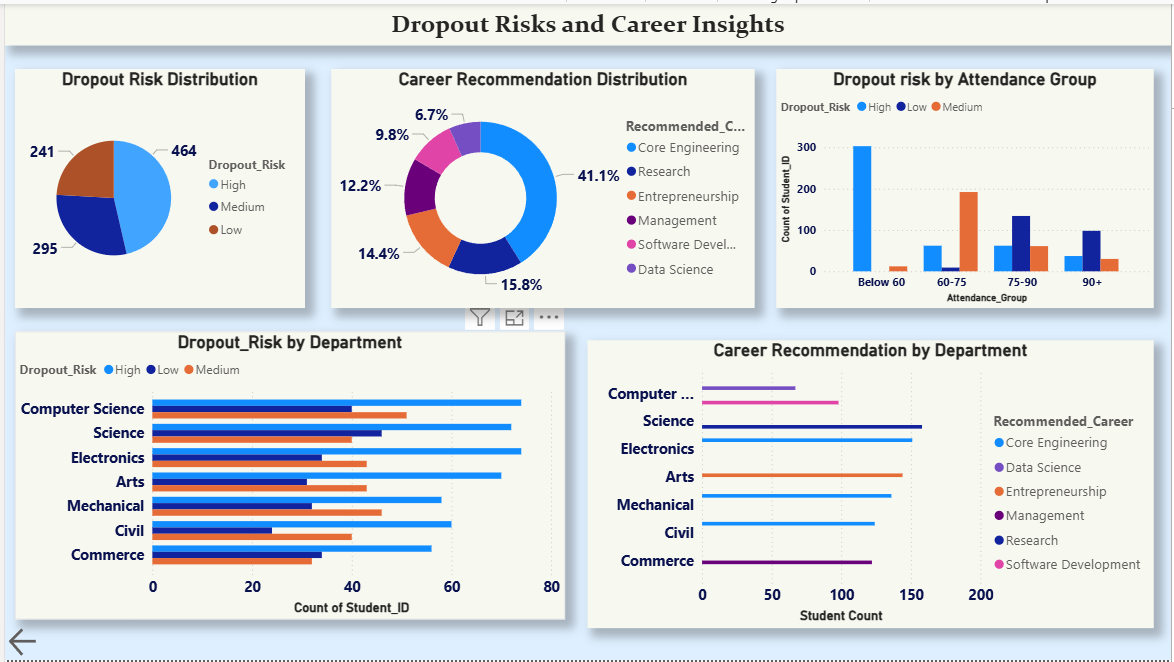

The dashboard page shown, as its layout file describes it:
{"tool":"powerbi","page":{"name":"Page 3","canvas":[1280,720],"ordinal":2},"visuals":[{"type":"textbox","box":[0,0,1280.3,45.3],"z":0},{"type":"pieChart","title":"Dropout Risk Distribution","fields":{"Category":["Sheet1.Dropout_Risk"],"Y":["CountNonNull(Sheet1.Student_ID)"]},"box":[11,71.4,318.4,262.1],"z":1000},{"type":"clusteredBarChart","title":" Dropout_Risk by Department","fields":{"Series":["Sheet1.Dropout_Risk"],"Category":["Sheet1.Department"],"Y":["CountNonNull(Sheet1.Student_ID)"]},"box":[11,359.5,603.8,315.6],"z":2000},{"type":"clusteredColumnChart","title":"Dropout risk by Attendance Group","fields":{"Series":["Sheet1.Dropout_Risk"],"Category":["Sheet1.Attendance_Group"],"Y":["CountNonNull(Sheet1.Student_ID)"]},"box":[846.7,71.4,414.4,262.1],"z":3000},{"type":"donutChart","title":"Career Recommendation Distribution","fields":{"Category":["Sheet1.Recommended_Career"],"Y":["CountNonNull(Sheet1.Student_ID)"]},"box":[358.1,71.4,465.2,262.1],"z":4000},{"type":"clusteredBarChart","title":"Career Recommendation by Department","fields":{"Series":["Sheet1.Recommended_Career"],"Category":["Sheet1.Department"],"Y":["CountNonNull(Sheet1.Student_ID)"]},"box":[639.5,369.1,621.6,315.6],"z":5000},{"type":"actionButton","box":[0,680.6,100.2,39.8],"z":6001}]}

Visuals, with their boxes in screenshot pixels (x1, y1, x2, y2), scaled from the page's 1280x720 canvas onto the 1174x662 screenshot:
textbox: (0,0,1173,42)
"Dropout Risk Distribution" pieChart: (10,66,302,307)
" Dropout_Risk by Department" clusteredBarChart: (10,331,564,621)
"Dropout risk by Attendance Group" clusteredColumnChart: (777,66,1157,307)
"Career Recommendation Distribution" donutChart: (328,66,755,307)
"Career Recommendation by Department" clusteredBarChart: (587,339,1157,630)
actionButton: (0,626,92,661)
